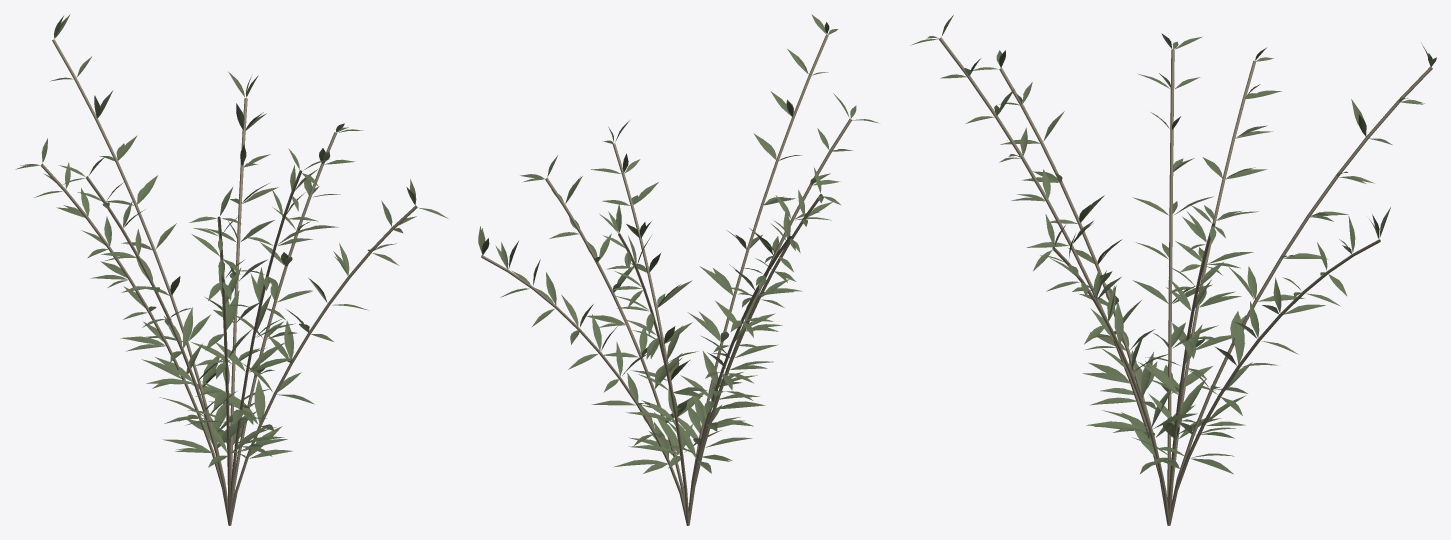
Rendered from olive-1.glb.
3 renders of one model, left to right at view 1: azimuth 30°, elevation 25°; view 2: azimuth 150°, elevation 25°; view 3: azimuth 270°, elevation 25°, orthographic. The views are drawn at different scales.
Parts seen in each view (by area): view 1: olive-leaves, olive-stems; view 2: olive-leaves, olive-stems; view 3: olive-leaves, olive-stems.
Part boxes in pixels (x1,y1,x2,y2): olive-leaves: (15,14,448,467); olive-stems: (40,39,417,525); olive-leaves: (478,14,878,473); olive-stems: (481,34,851,525); olive-leaves: (911,15,1436,474); olive-stems: (939,37,1432,525).
Bounding box in the file's own units: 0.4687 × 0.6419 × 0.6275.
